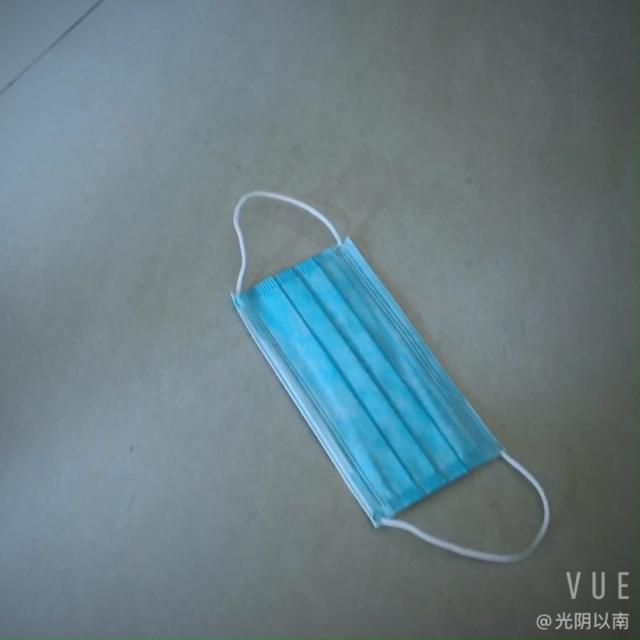face mask: (208, 248, 542, 536)
